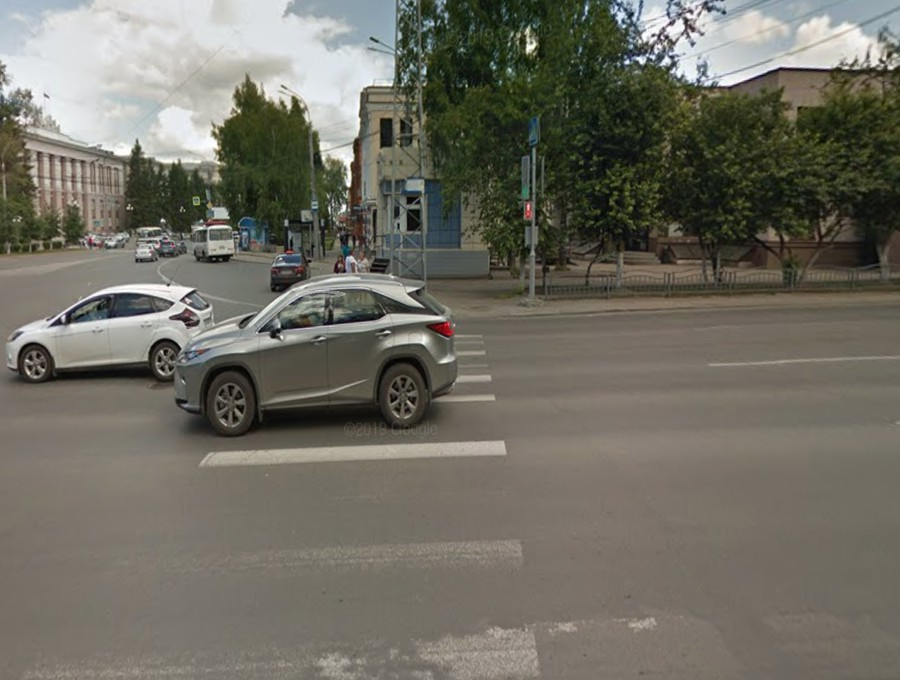Traffic Light-red: (523, 202, 535, 223)
